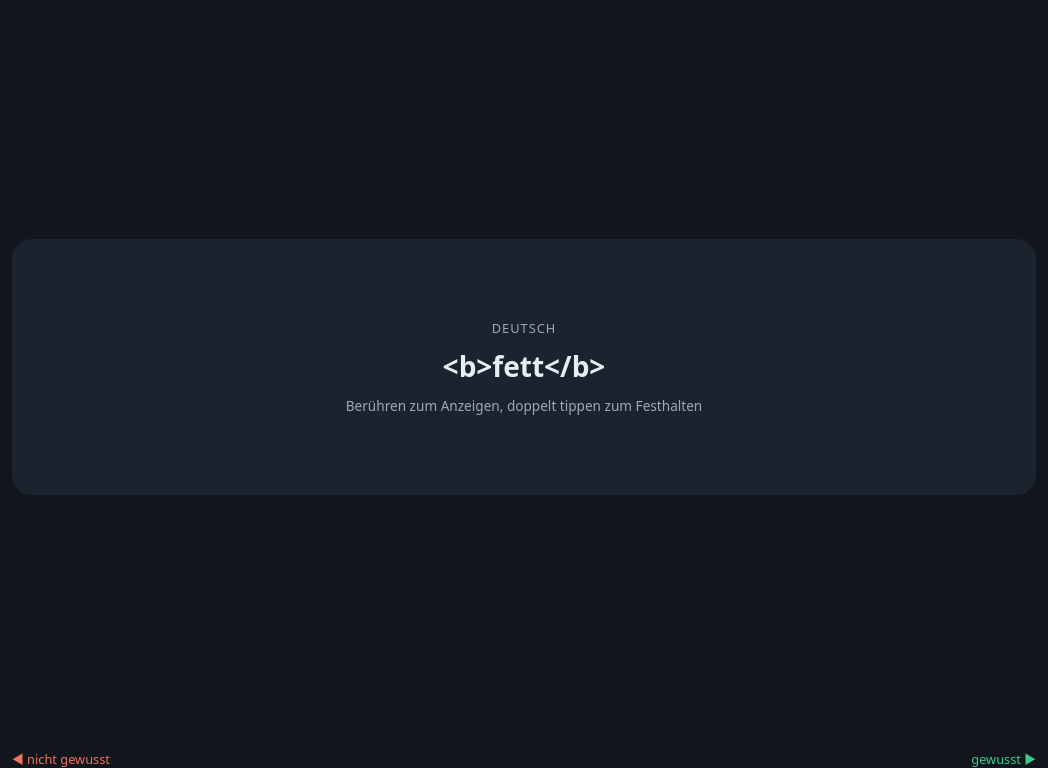
Test: Card › rendert importiertes Markup als Text statt es zu interpretieren
Press the mouse on the element that starts with "Deutsch" at (524, 367), box [12,239,1036,495]
Press the mouse on the element that starts with "Deutsch" at (524, 367), box [12,239,1036,495]
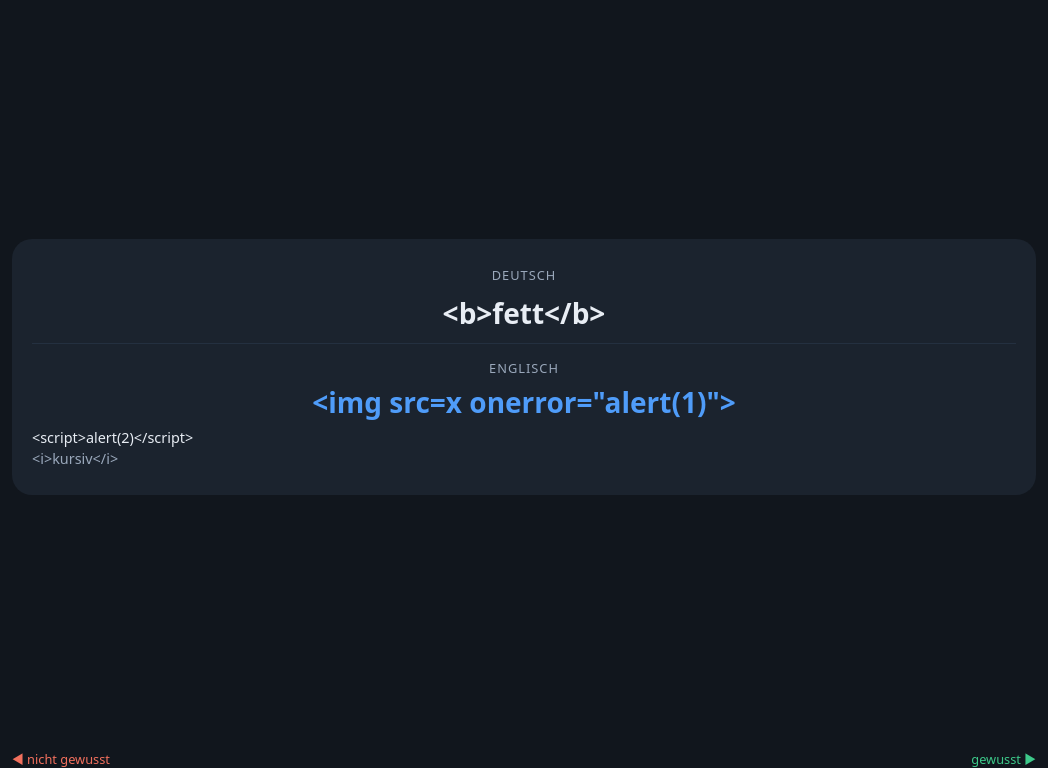
Expected: the text "<img src=x onerror=\"alert(1)\">" is shown, [312,382,736,420]
Expected: the text "<script>alert(2)</script>" is shown, [32,428,193,446]
